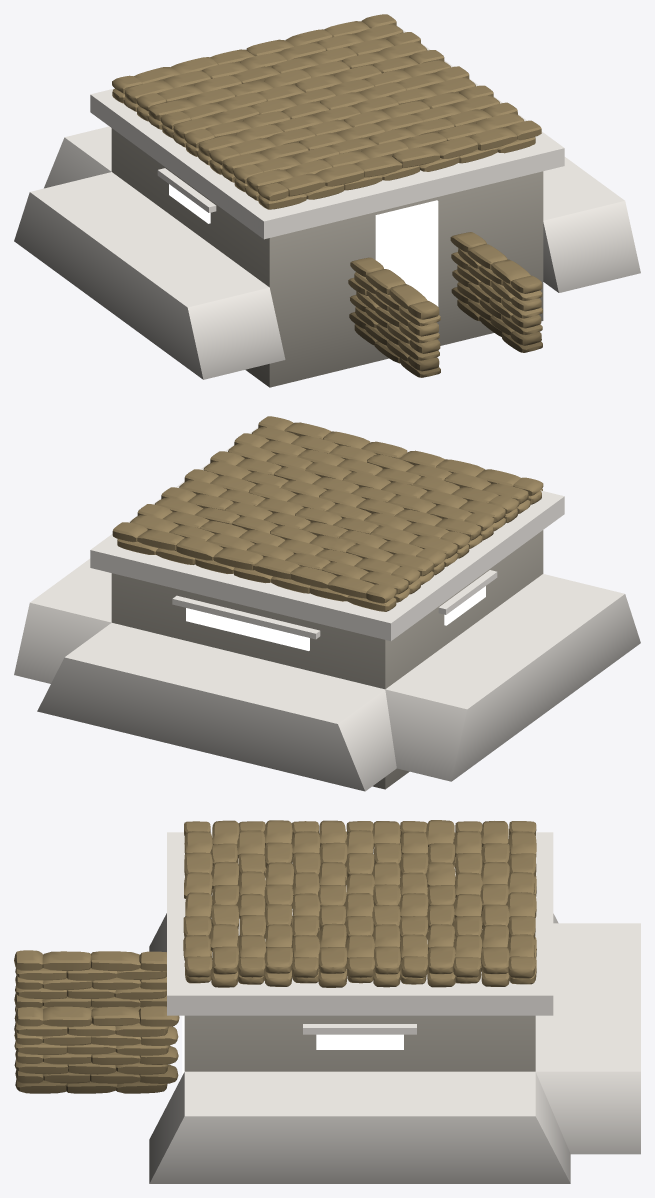
Rendered from bunker_fighting.glb.
3 views of the same model, one above another, from view 1: azimuth 30°, elevation 25°; view 2: azimuth 150°, elevation 25°; view 3: azimuth 270°, elevation 25° (orthographic). The views are drawn at different scales.
Parts seen in each view (by area): view 1: bunker_fighting_LOD0; view 2: bunker_fighting_LOD0; view 3: bunker_fighting_LOD0.
Part boxes in pixels (x1,y1,x2,y2): bunker_fighting_LOD0: (14, 14, 640, 387); bunker_fighting_LOD0: (14, 416, 640, 791); bunker_fighting_LOD0: (14, 820, 640, 1183).
Size of what is drawn, in the model's own units: 6.4 by 2.71 by 7.14.
